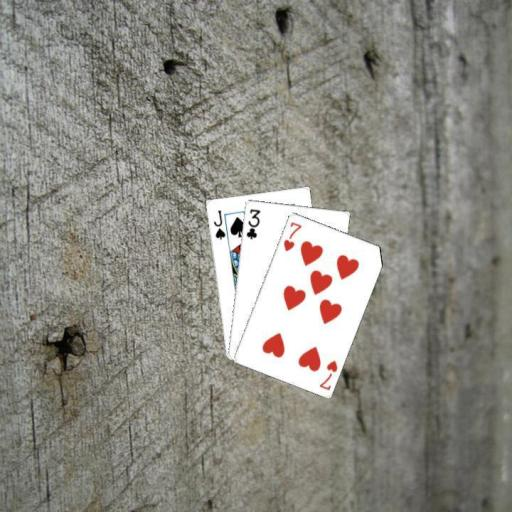card-corner: (280, 218, 303, 252), (316, 357, 338, 392), (242, 206, 262, 240), (210, 207, 227, 241)
